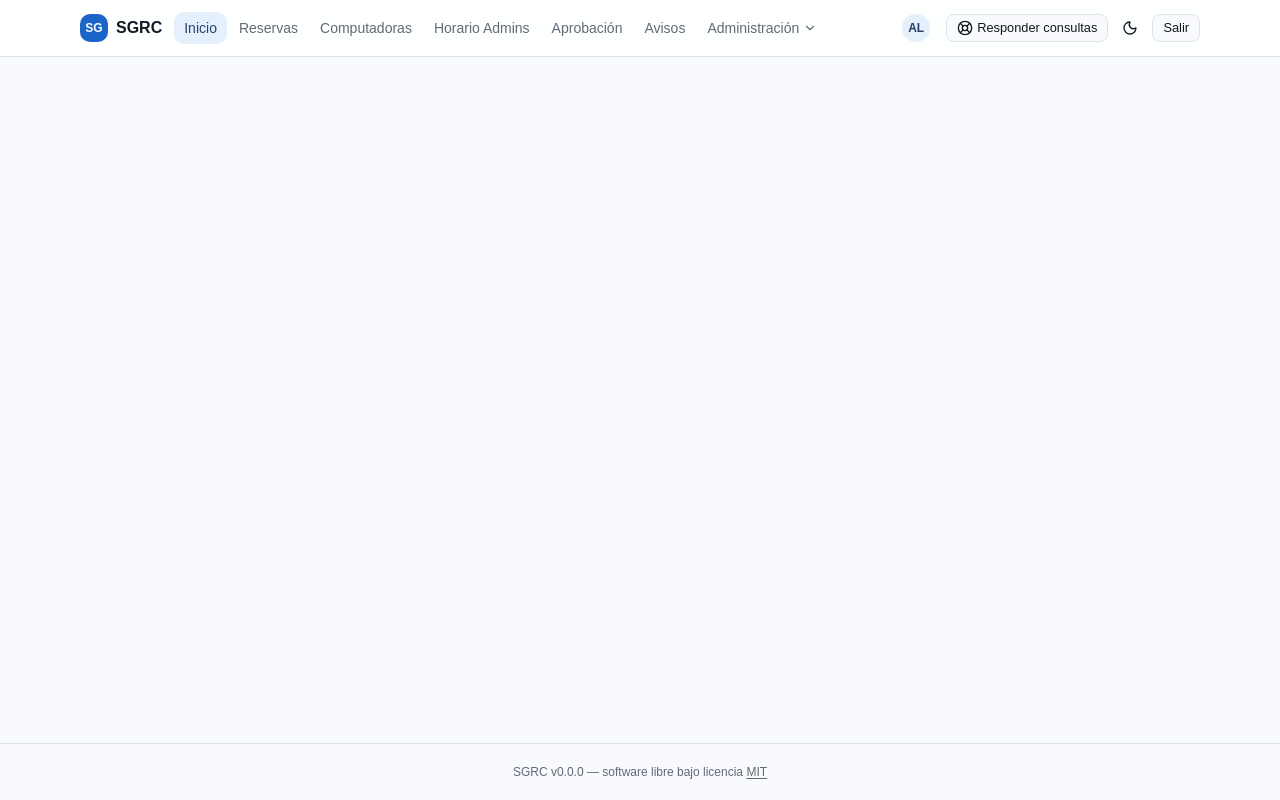
AppLayout › muestra cuántas computadoras están afuera, junto a Entregas
Click the button "Administración" at [762, 28], box [697,12,827,44]
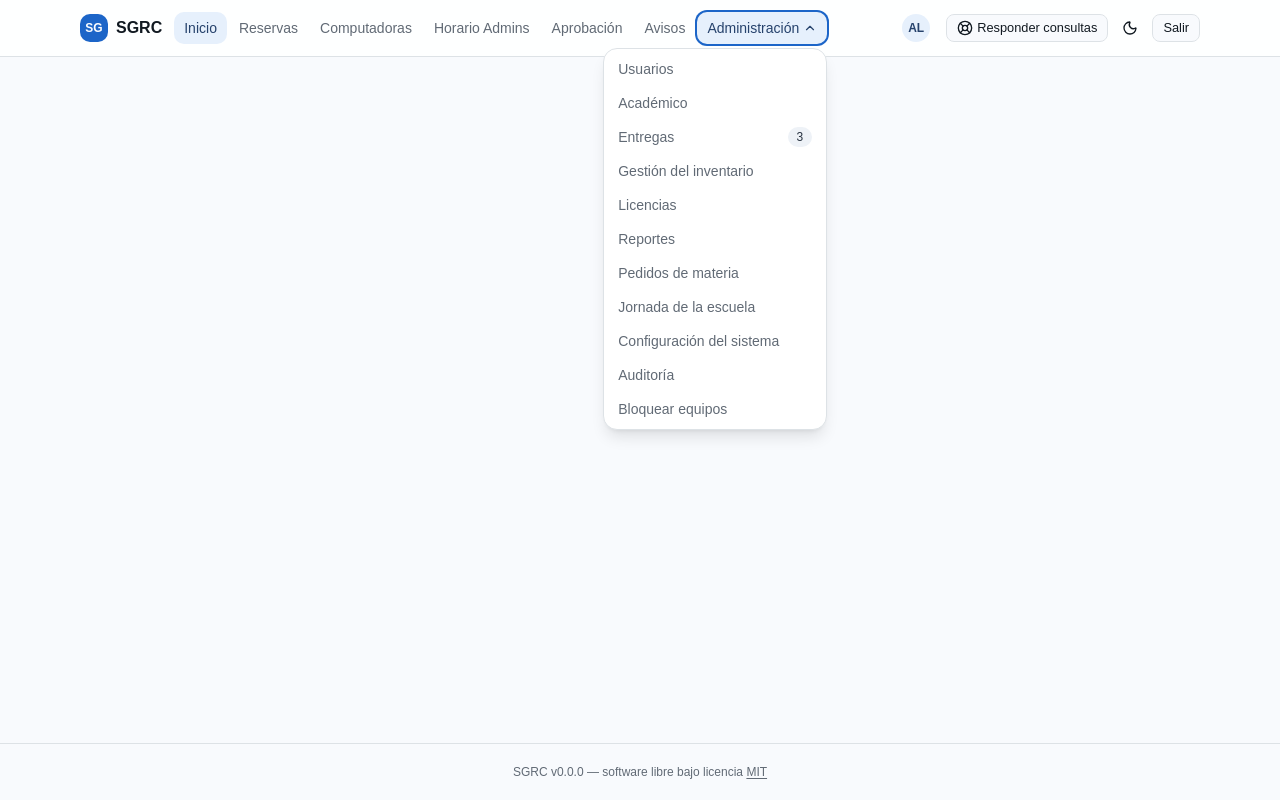
Expected: the icon named "3 fuera del laboratorio" is shown, [788,127,812,147]
